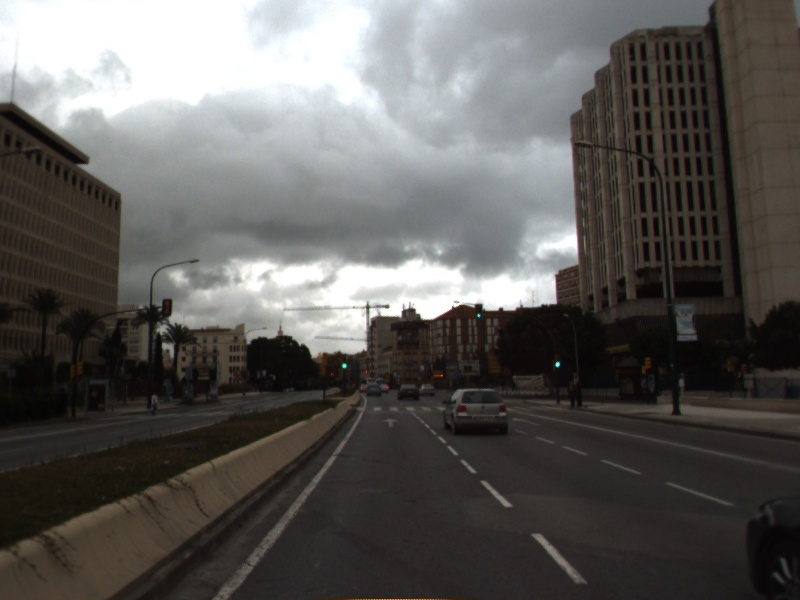STRAIGHT: (510, 415, 542, 428), (379, 416, 401, 429)
